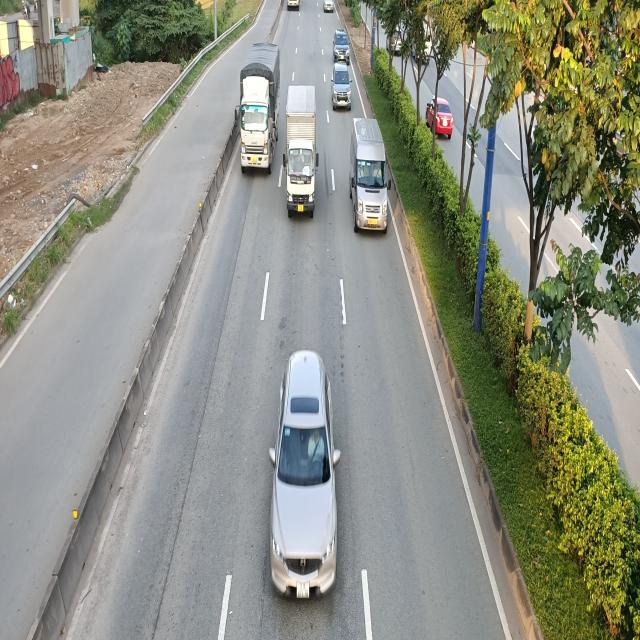car: (270, 350, 338, 602), (332, 66, 353, 111), (334, 28, 352, 62)
truck: (234, 40, 278, 174), (282, 85, 317, 217)
van: (348, 117, 390, 235)
